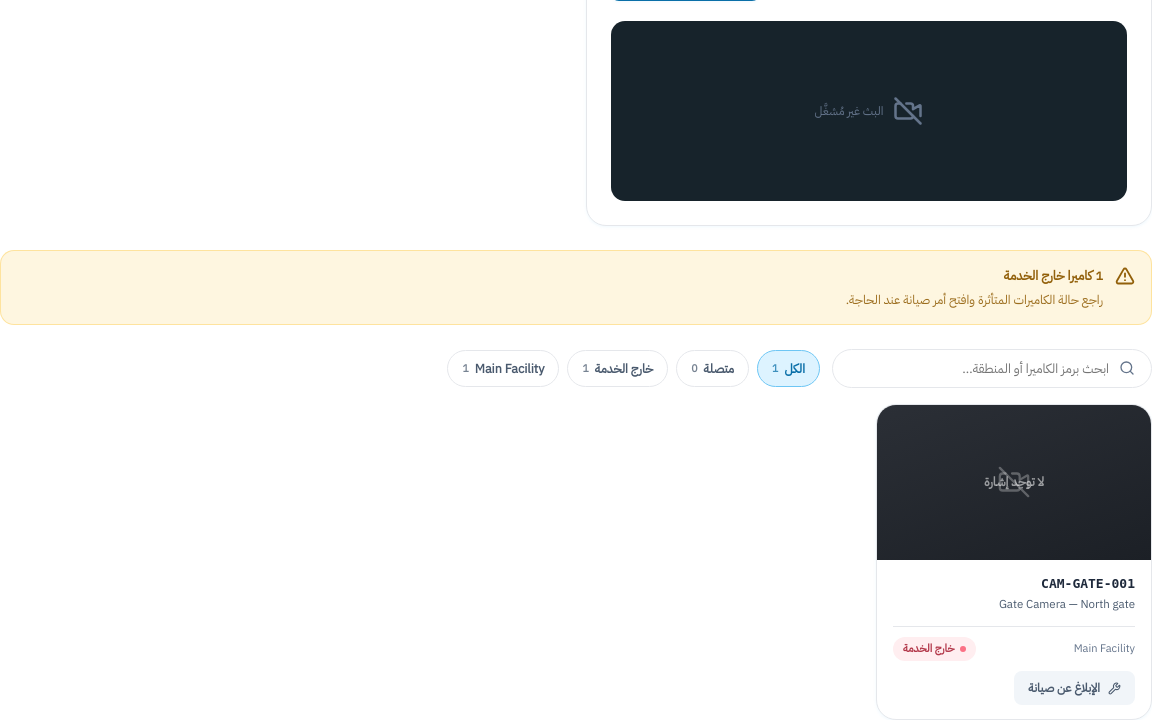
Test: CameraMonitoringPage maintenance reporting › shows the already-open report instead of a new one
(page scrolled)
Click the button "الإبلاغ عن صيانة" at (1075, 688), box [1014,671,1135,705]
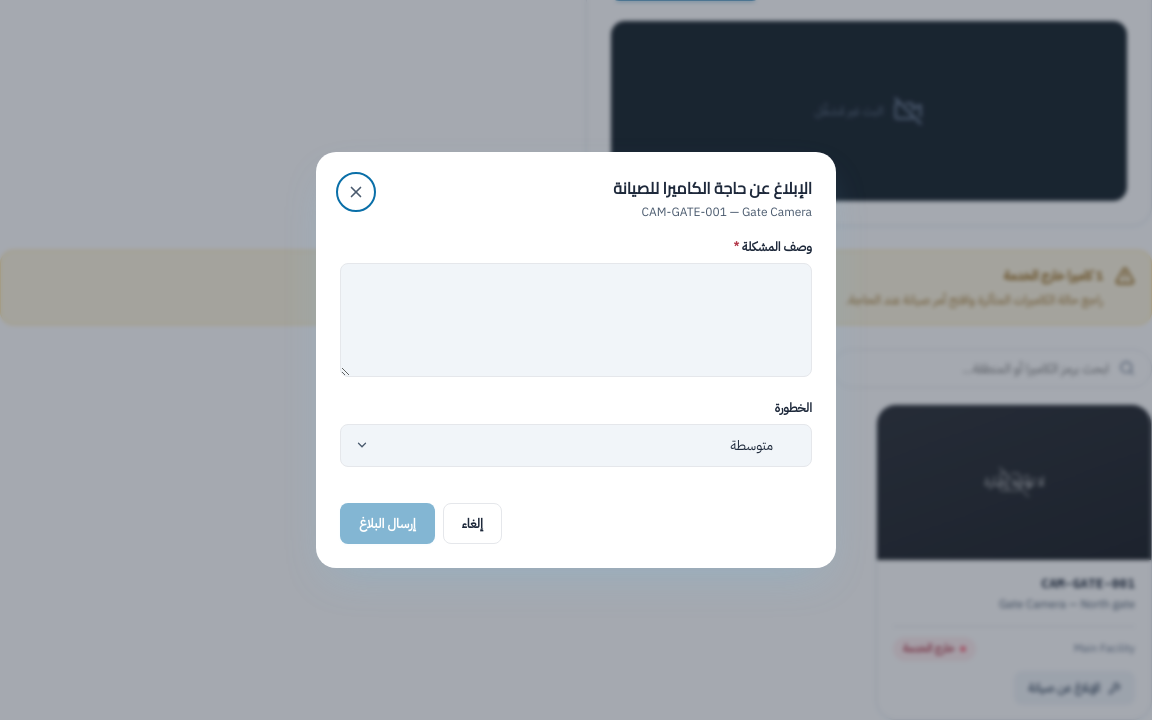
Type "Still broken" into the text box labelled "وصف المشكلة*" at (576, 320), box [340,263,812,377]
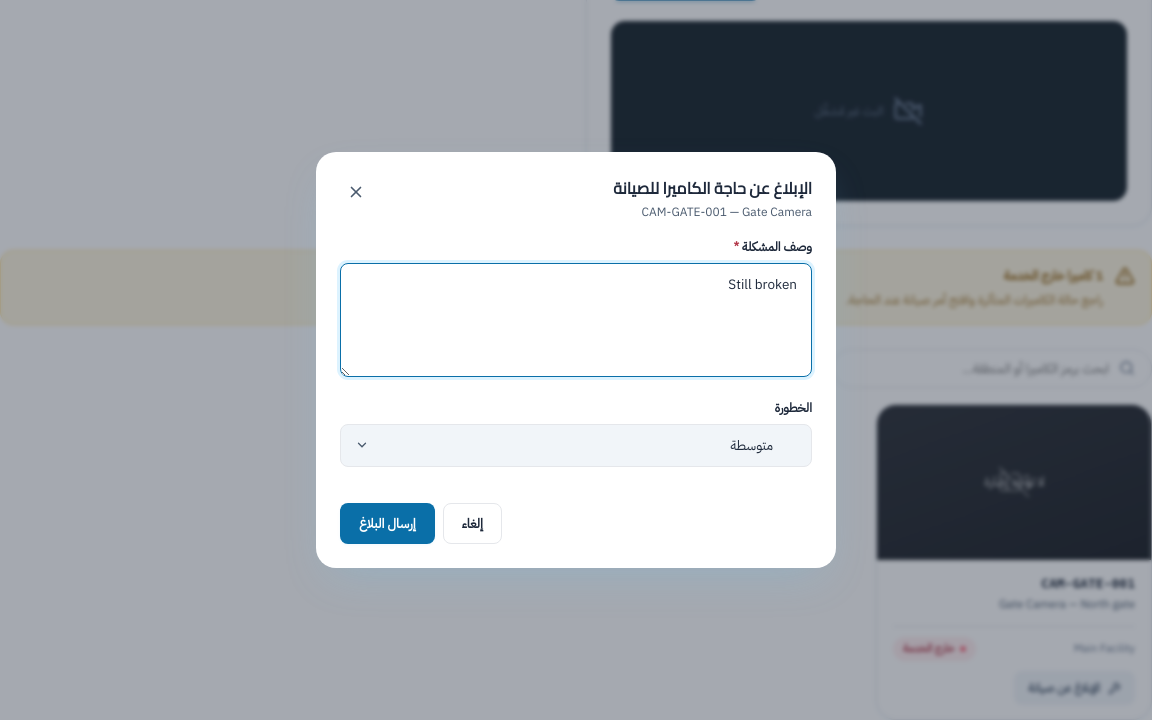
Click the button "إرسال البلاغ" at (387, 523), box [340,503,435,544]
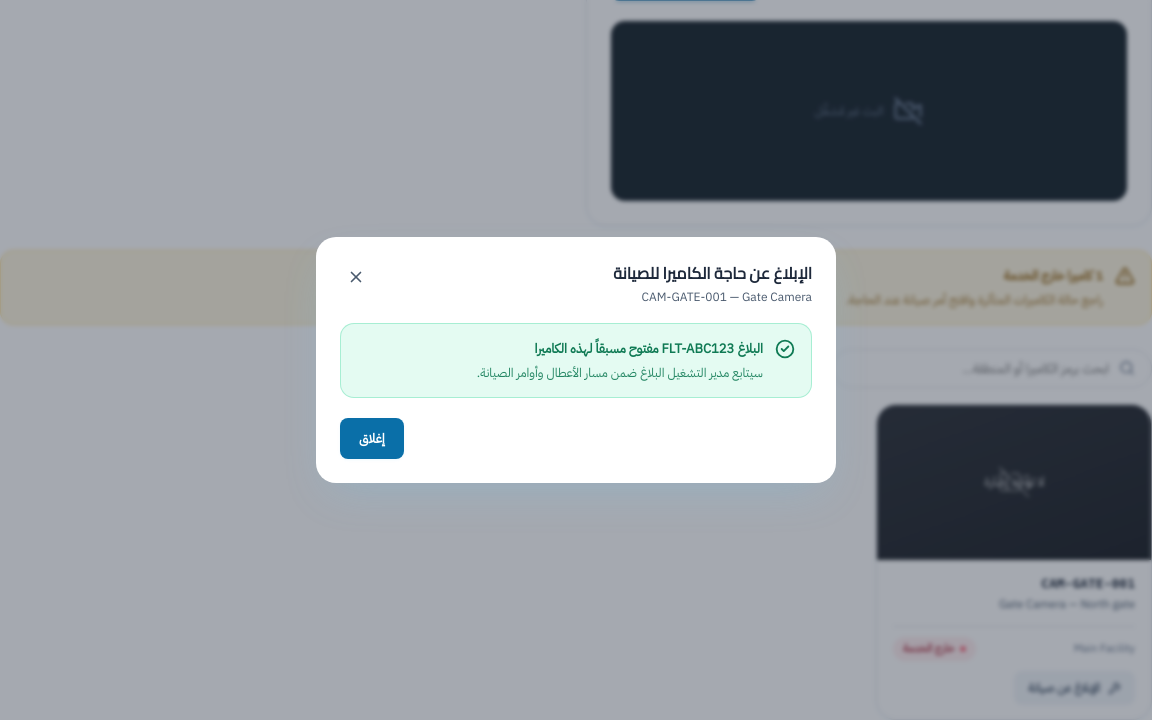
Result: the text "البلاغ FLT-ABC123 مفتوح مسبقاً لهذه الكاميرا" is shown at [535,339,763,358]
